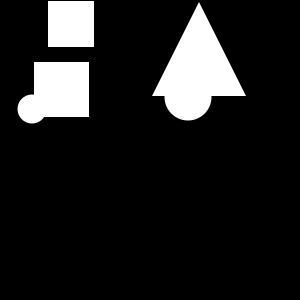circle: (34, 62, 89, 117), (48, 1, 94, 47)
rectangle: (164, 73, 212, 120), (18, 94, 46, 124)
triangle: (152, 2, 246, 96)
